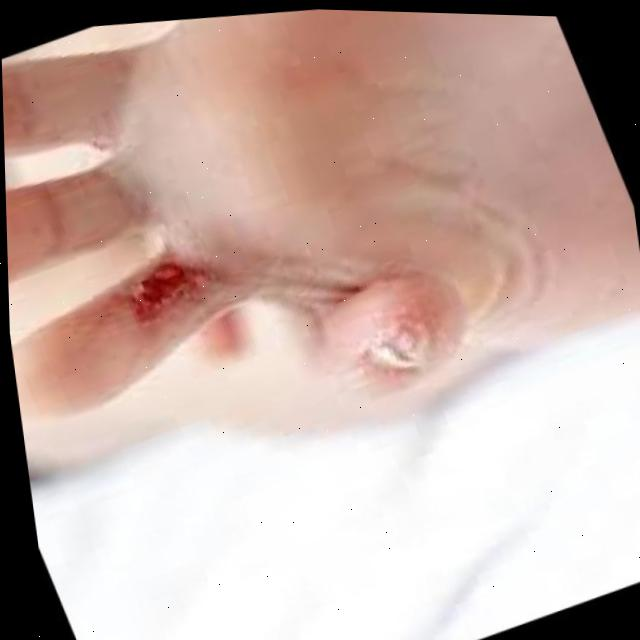Eczema: (125, 240, 209, 337)
